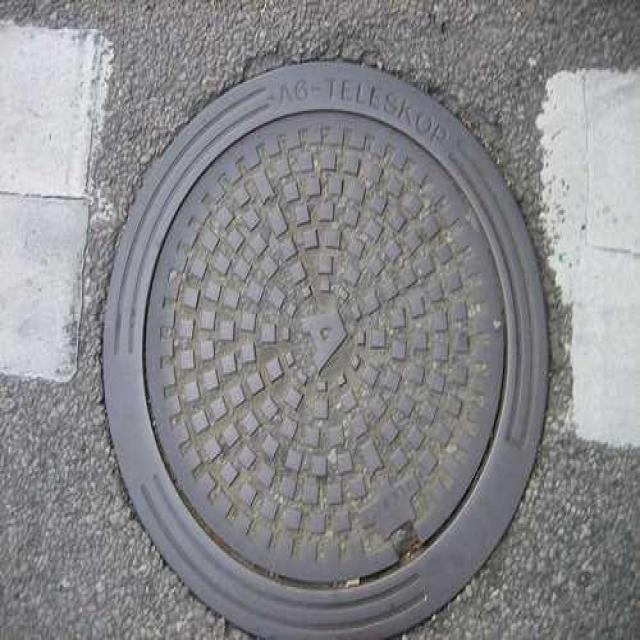manhole: (104, 63, 547, 637)
